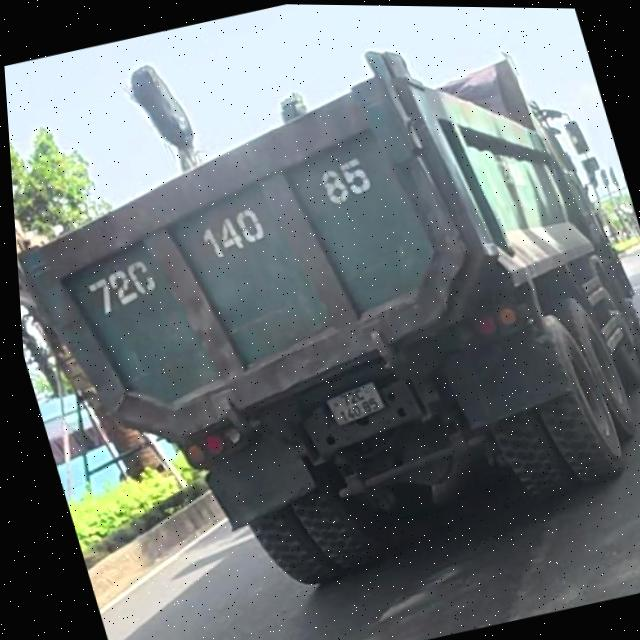car: (1, 11, 640, 639)
plate: (310, 372, 398, 431)
